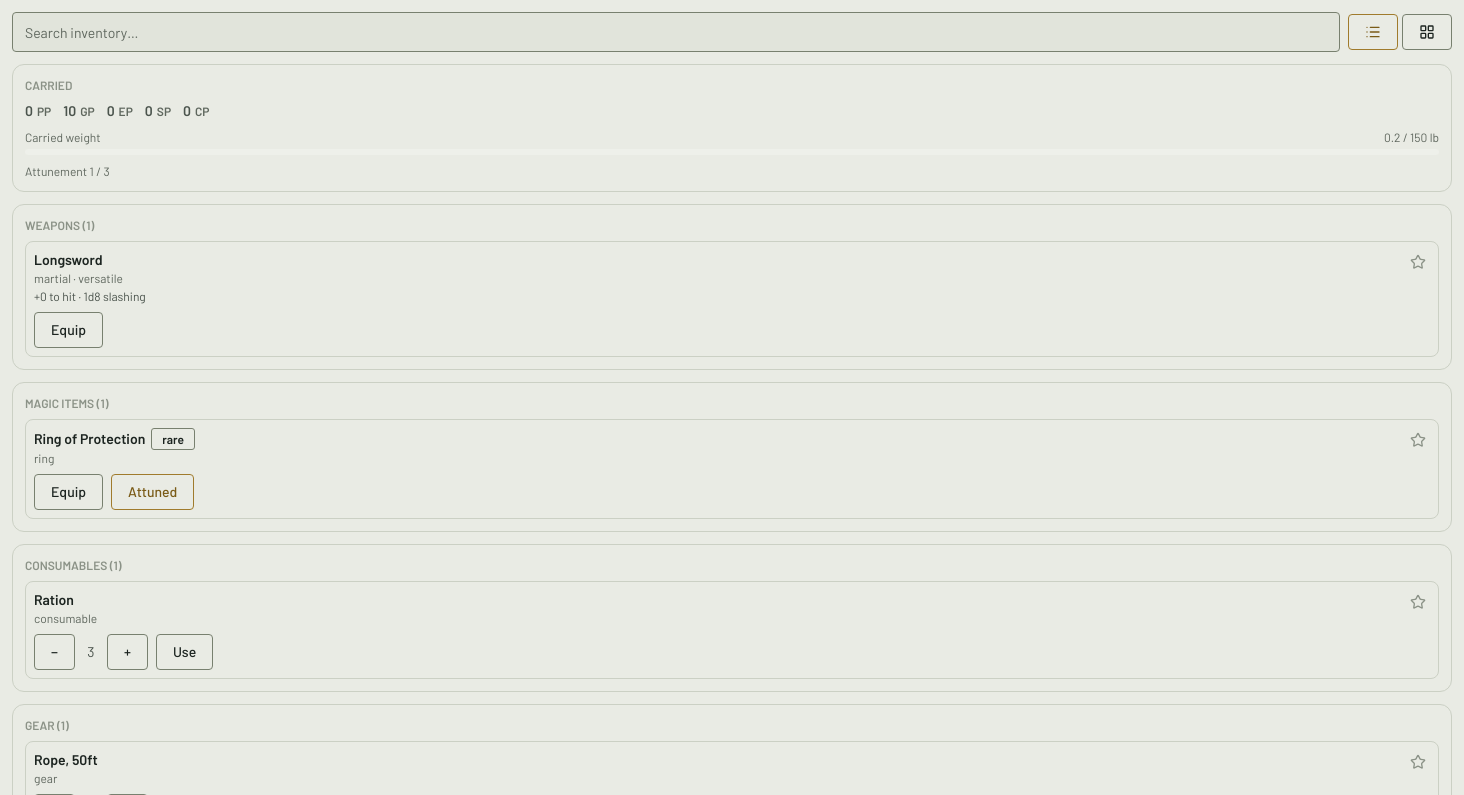
Test: InventoryTab › filters entries by search
The image size is (1464, 795).
Type "longsword" into the search field labelled "Search inventory…" at (676, 32), box [12,12,1340,52]
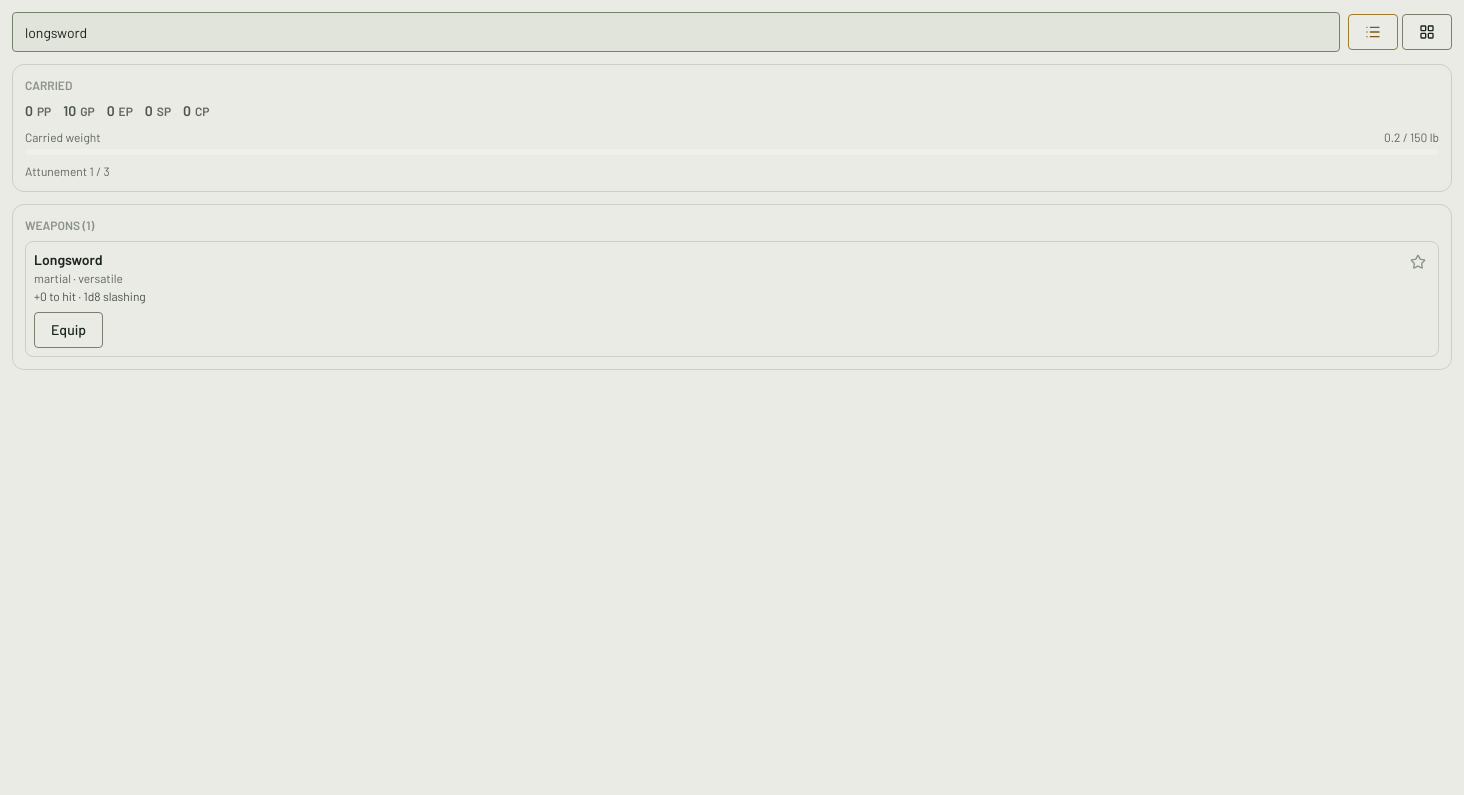
expect the text "Longsword" is shown: met, box [34,250,102,270]
expect the text "Rope, 50ft" is gone: met
